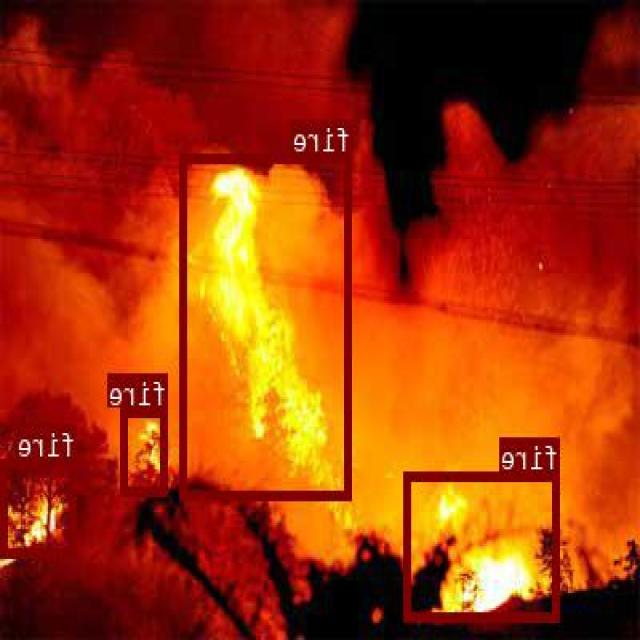fire: (182, 153, 352, 498), (406, 470, 560, 620), (3, 458, 78, 554), (123, 407, 168, 494)
